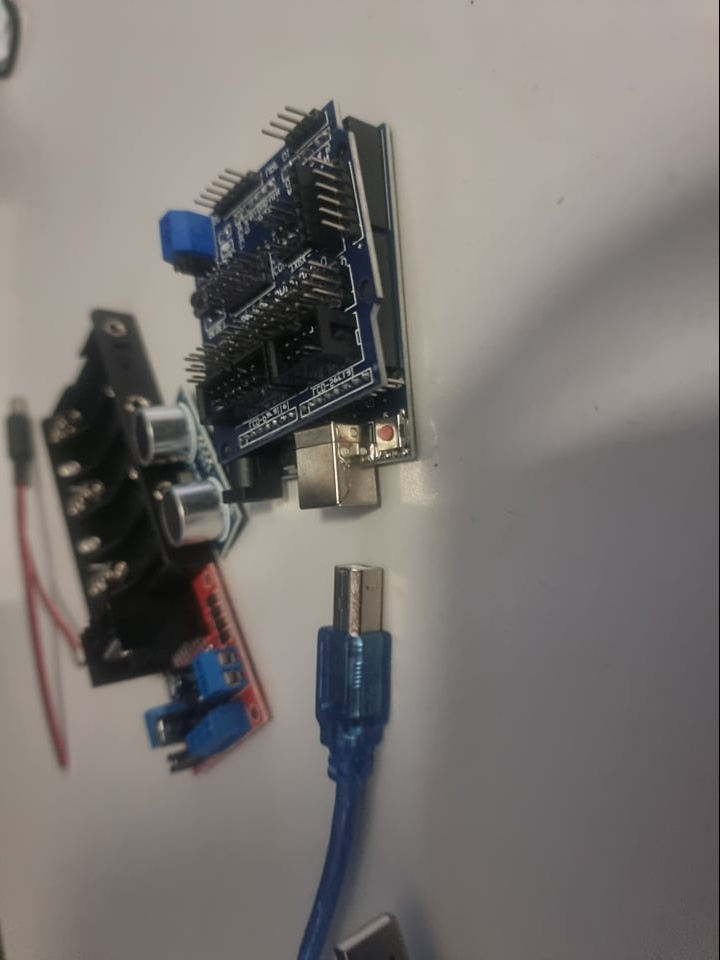5V EXPANSION: (144, 101, 374, 403)
BATTERY BOX: (38, 312, 199, 577)
MOTOR: (74, 578, 273, 776)
SENSOR: (132, 386, 242, 548)
UNO R3: (222, 413, 427, 527)
